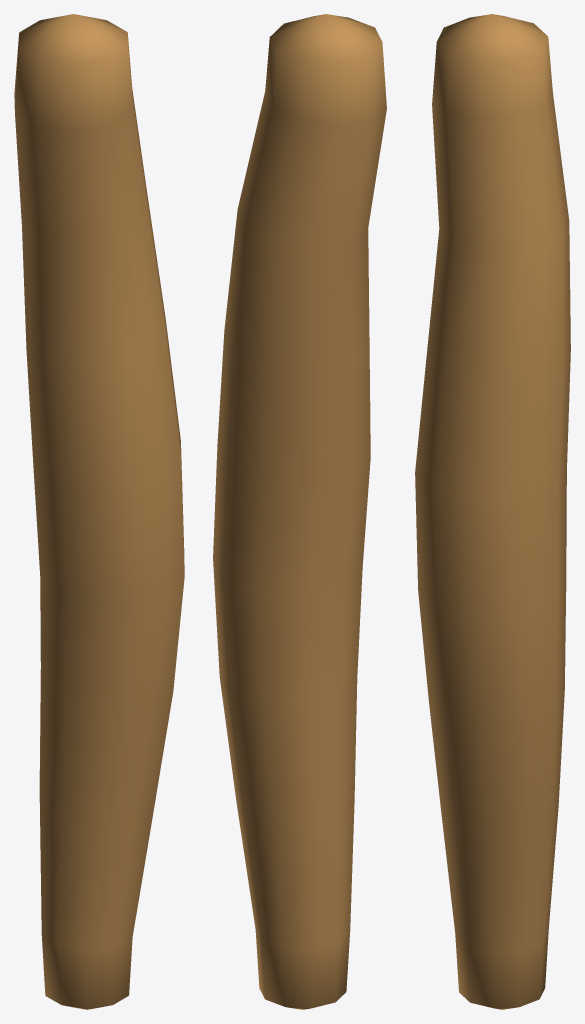
File: femur_T3_right_leg.obj
3 views of the same model, side by side, from view 1: azimuth 30°, elevation 25°; view 2: azimuth 150°, elevation 25°; view 3: azimuth 270°, elevation 25° (orthographic).
Bounding box in the file's own units: 0.0146 × 0.09 × 0.0129.
